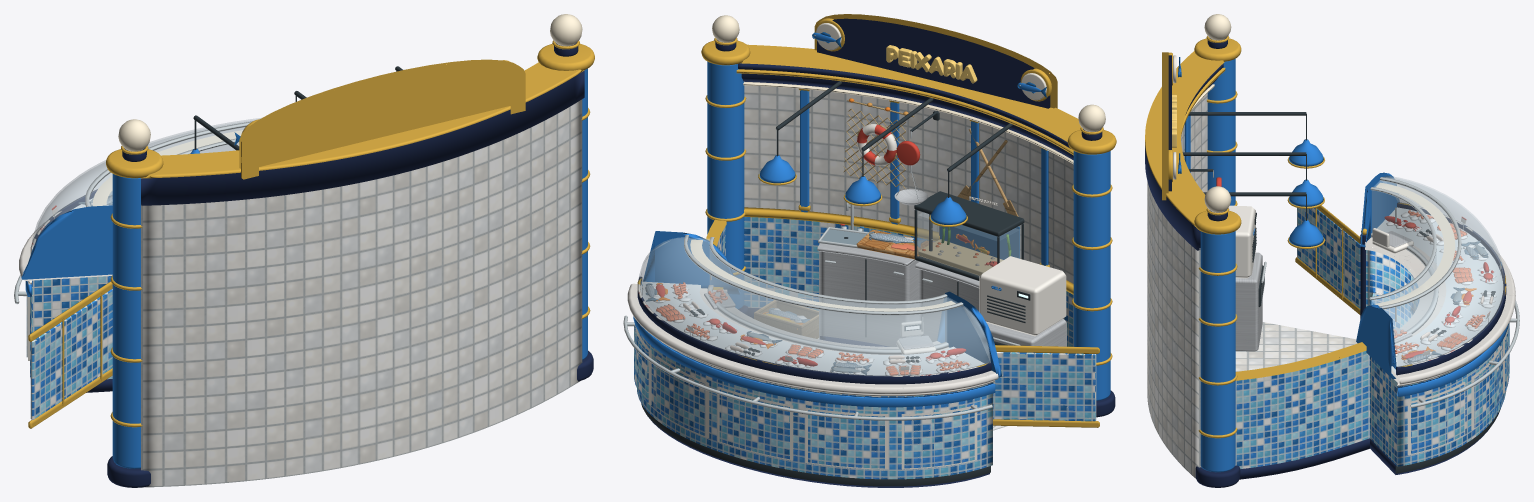
File: sector-peixaria.fbx
The picture shows the model from 3 angles, left to right: view 1: azimuth 30°, elevation 25°; view 2: azimuth 150°, elevation 25°; view 3: azimuth 270°, elevation 25°; orthographic projection. The views are drawn at different scales.
Parts seen in each view (by area): view 1: Body; view 2: Body, Anim Fill 2, Anim Fill 3, Anim Fill 1, Anim Fill 0; view 3: Body, Anim Fill 0, Anim Fill 1, Anim Fill 2, Anim Fill 3.
Boxes of the visible parts, x1=… form: Body: x1=14, y1=14, x2=594, y2=487; Body: x1=623, y1=14, x2=1116, y2=487; Anim Fill 2: x1=775, y1=344, x2=874, y2=374; Anim Fill 3: x1=883, y1=348, x2=970, y2=375; Anim Fill 1: x1=684, y1=318, x2=782, y2=356; Anim Fill 0: x1=641, y1=281, x2=707, y2=322; Body: x1=1145, y1=14, x2=1519, y2=487; Anim Fill 0: x1=1395, y1=328, x2=1467, y2=364; Anim Fill 1: x1=1441, y1=287, x2=1496, y2=331; Anim Fill 2: x1=1439, y1=241, x2=1501, y2=285; Anim Fill 3: x1=1384, y1=210, x2=1467, y2=245.
Bounding box in the file's own units: 4.33 × 3 × 3.35.
